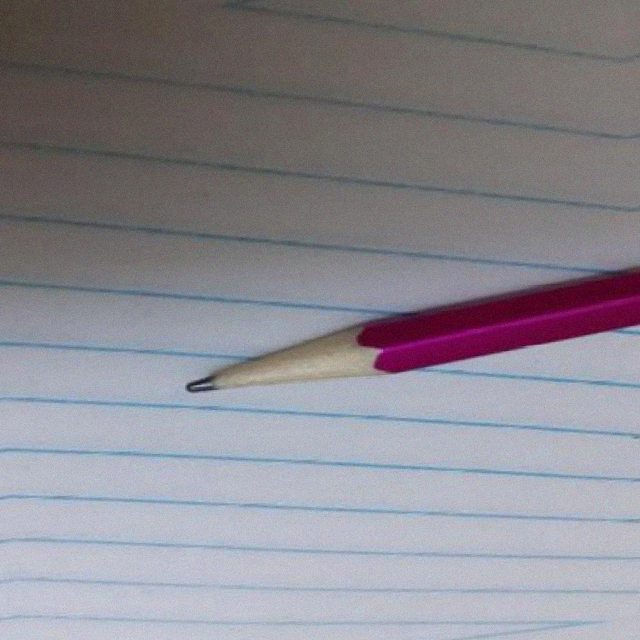pencil: (184, 331, 402, 405)
